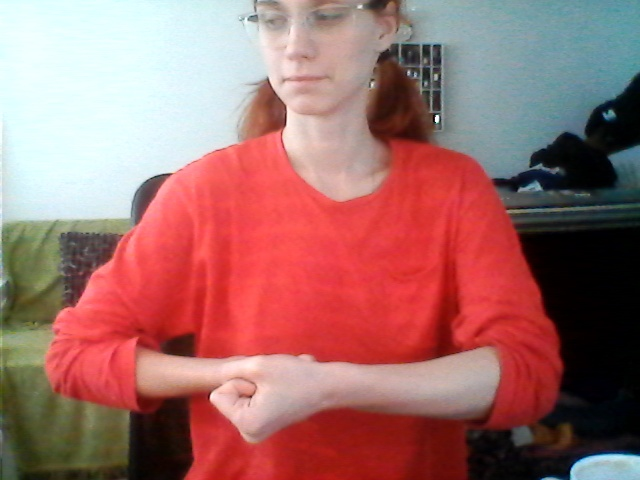hasic: (192, 328, 355, 451)
